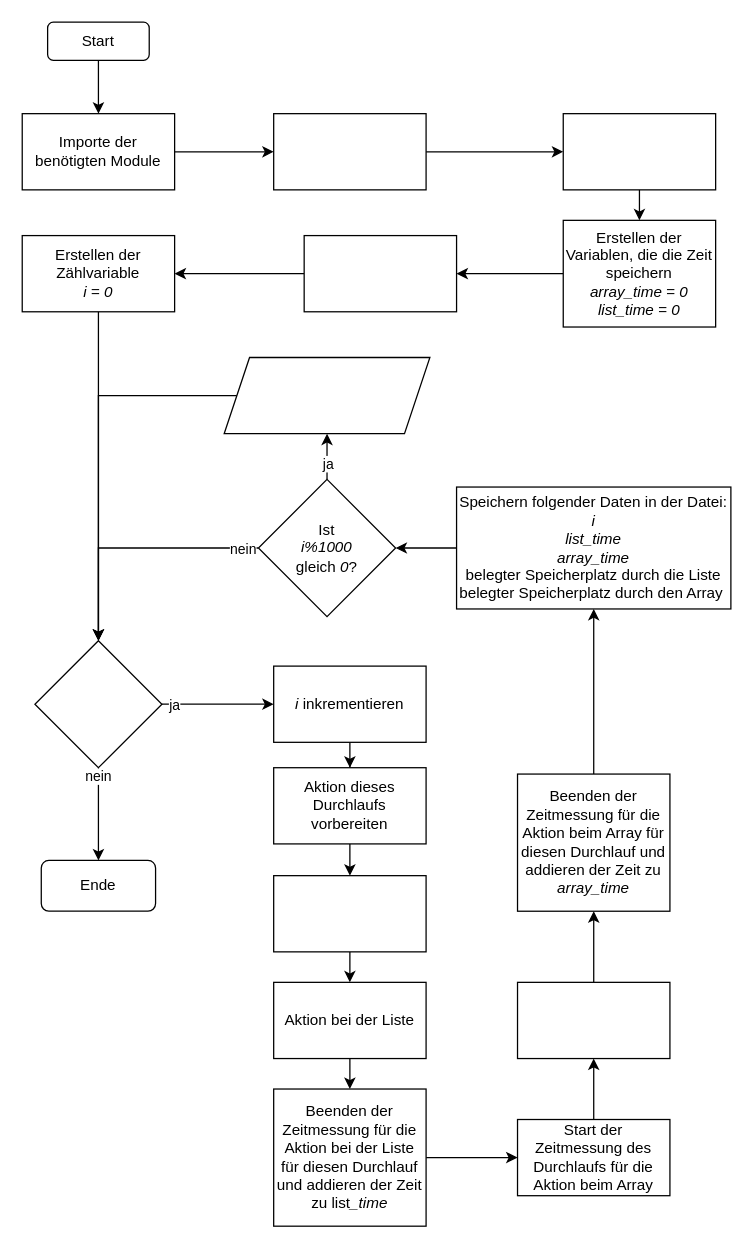
Some shapes in this 753 by 1248 pixel diagram are drawn without their labels. Here are the shapes that lost their labels. From the top down, the box of each, then its label:
(272, 112, 426, 190): Erstellen der Datei zum Speichern der Tracking-Ergebnisse
(562, 112, 716, 190): Vorbereiten des Arrays und der Liste
(303, 234, 457, 312): Festlegen der Anzahl der Durchläufe in der Variable iterations
(223, 356, 430, 434): Ausgeben einer Statusmeldung, wie viele Durchläufe durchgeführt wurden
(34, 639, 162, 768): i < iterations?
(272, 874, 426, 952): Start der Zeitmessung des Durchlaufs für die Aktion bei der Liste
(516, 981, 670, 1059): Aktion beim Array
